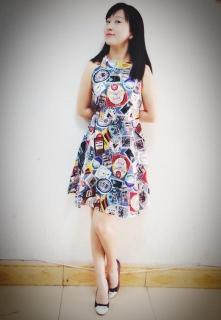vest: (67, 56, 151, 218)
